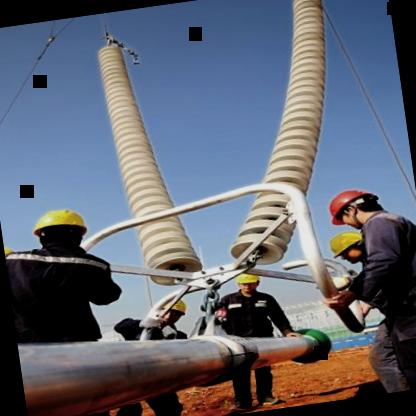helmet: (26, 198, 97, 258), (322, 182, 384, 232), (324, 226, 372, 271), (145, 297, 194, 331), (232, 264, 262, 298)
